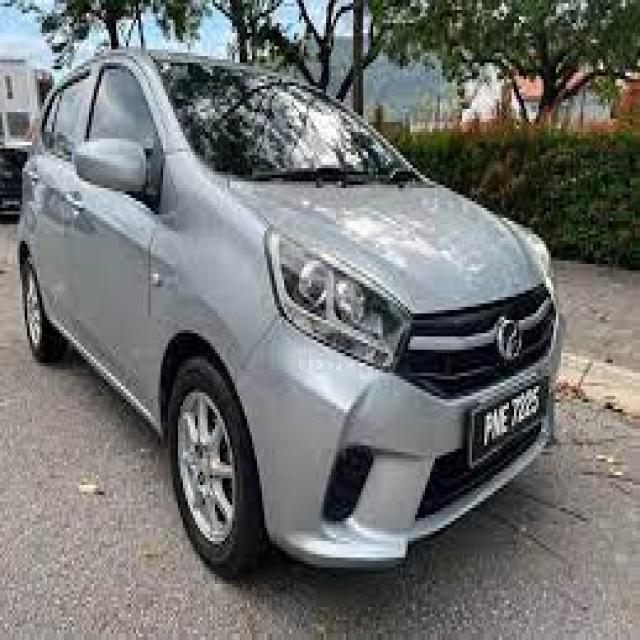PeroduaAxia: (14, 43, 564, 581)
